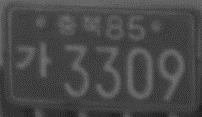0: (126, 46, 153, 100)
3: (93, 45, 123, 100), (62, 44, 91, 97)
5: (127, 14, 147, 41)
8: (105, 14, 125, 40)
9: (157, 48, 186, 99)
가: (17, 41, 52, 79)
충북_O: (56, 13, 103, 37)
